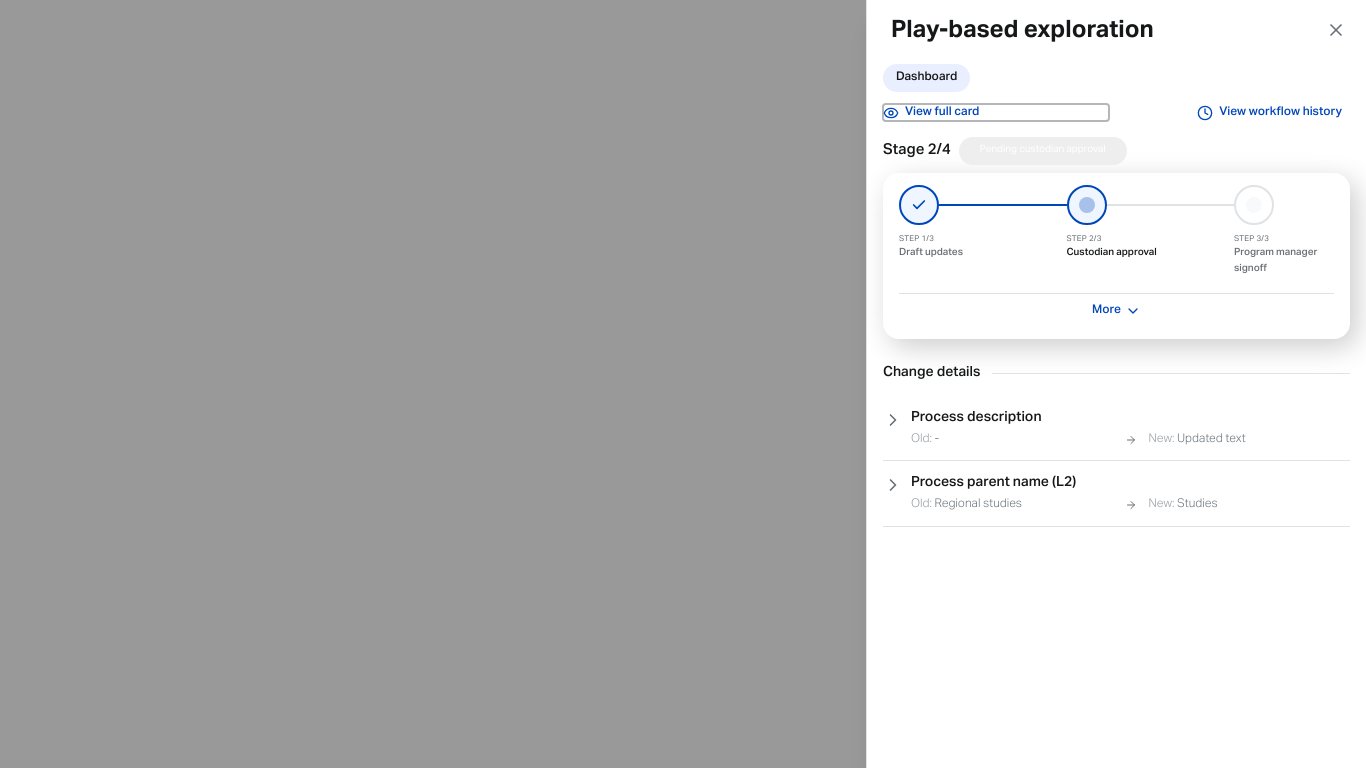
Test: RequestDetailsSheet › clicking "View workflow history" shows workflow history panel
The width and height of the screenshot is (1366, 768).
Click the button "View workflow history" at (1229, 113), box top-left (1116, 104), bottom-right (1342, 121)
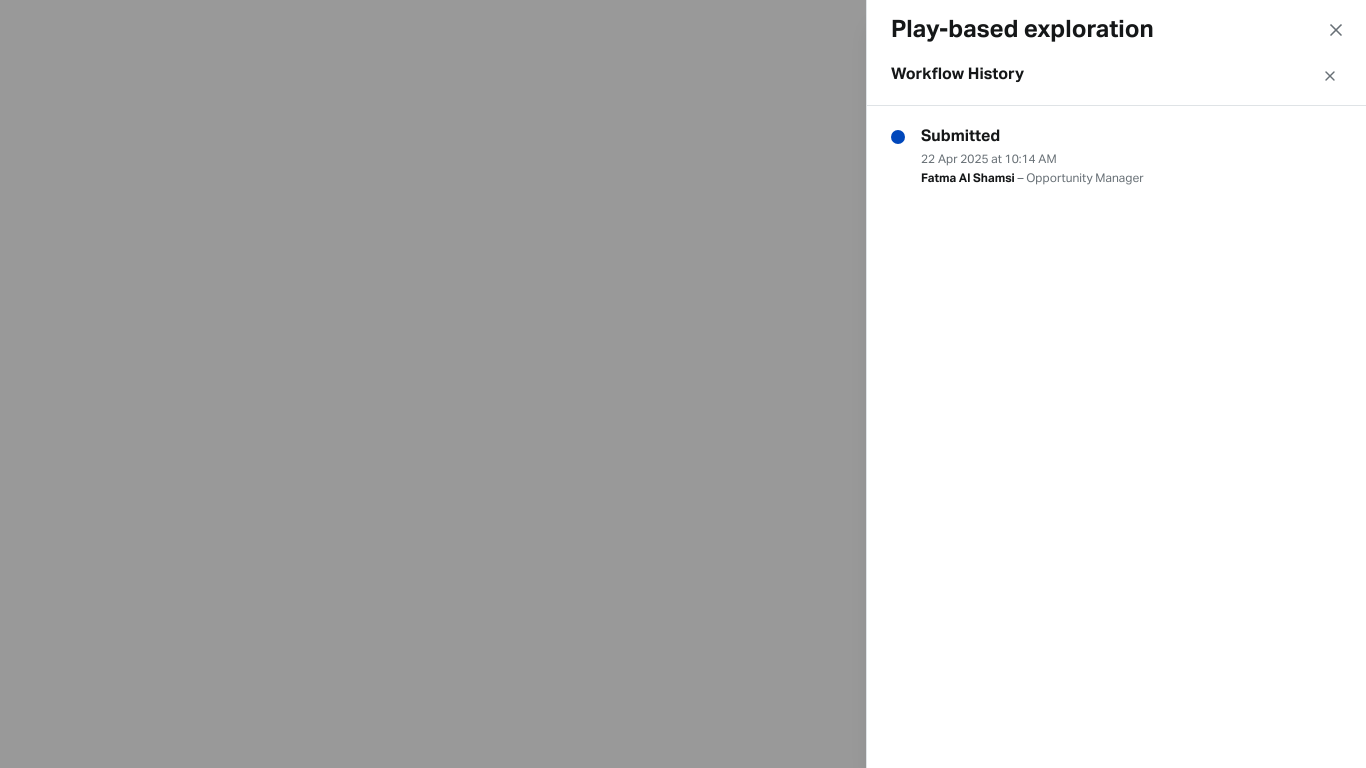
Result: the heading "Workflow History" is shown at top-left (891, 64), bottom-right (1024, 89)
